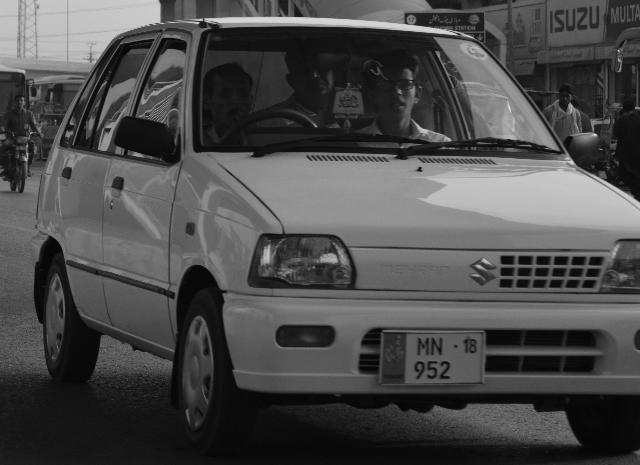Number: (408, 337, 454, 382)
